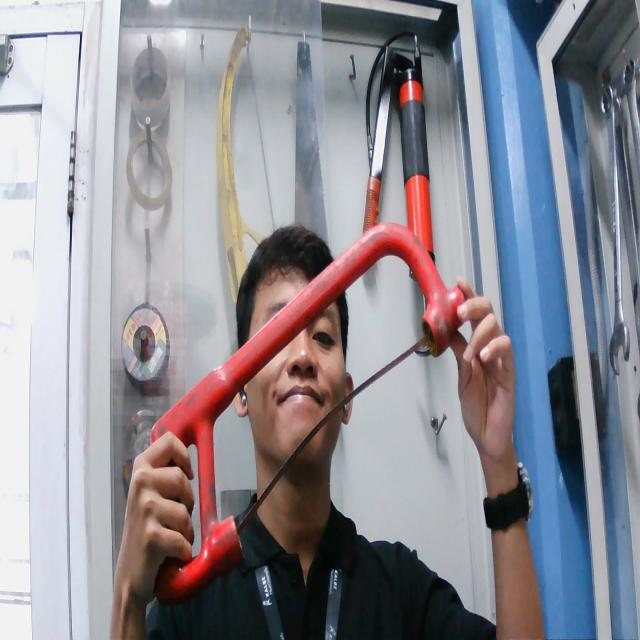gergaji_besi: (144, 217, 472, 612)
